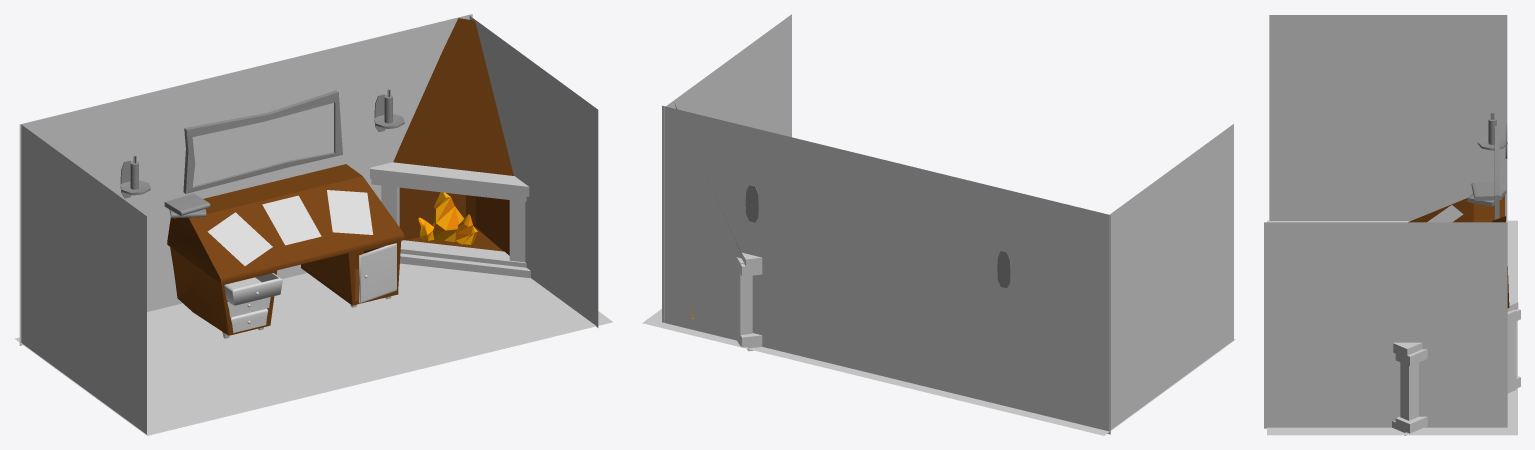
File: prueba_secuencias_v1.FBX
3 views of the same model, side by side, from view 1: azimuth 30°, elevation 25°; view 2: azimuth 150°, elevation 25°; view 3: azimuth 270°, elevation 25° (orthographic). The views are drawn at different scales.
Visible parts, largest first — view 1: Suelos_paredes, mesa_superior, sup_chimenea, Fondo_marco_grande, interior_chimenea, Box054, Puerta_mesa, opcion2_fondo, opcion3_fondo, opcion1_fondo, Box065, Box066 (+6 smaller); view 2: Suelos_paredes, Box050; view 3: Suelos_paredes, mesa_superior, Box063, Box050, Box065, Box054, Box064, opcion1_fondo.
Part boxes in pixels (x1=…): Suelos_paredes: x1=15, y1=14, x2=613, y2=435; mesa_superior: x1=120, y1=90, x2=404, y2=335; sup_chimenea: x1=393, y1=18, x2=513, y2=175; Fondo_marco_grande: x1=192, y1=103, x2=333, y2=186; interior_chimenea: x1=399, y1=187, x2=509, y2=255; Box054: x1=370, y1=162, x2=529, y2=196; Puerta_mesa: x1=359, y1=243, x2=396, y2=303; opcion2_fondo: x1=262, y1=195, x2=321, y2=245; opcion3_fondo: x1=327, y1=190, x2=373, y2=234; opcion1_fondo: x1=207, y1=212, x2=272, y2=265; Box065: x1=400, y1=240, x2=526, y2=267; Box066: x1=400, y1=253, x2=530, y2=278; Suelos_paredes: x1=642, y1=14, x2=1235, y2=435; Box050: x1=736, y1=257, x2=752, y2=346; Suelos_paredes: x1=1264, y1=15, x2=1517, y2=435; mesa_superior: x1=1408, y1=113, x2=1507, y2=222; Box063: x1=1400, y1=362, x2=1418, y2=420; Box050: x1=1507, y1=309, x2=1516, y2=393; Box065: x1=1395, y1=375, x2=1520, y2=433; Box054: x1=1393, y1=298, x2=1518, y2=358; Box064: x1=1395, y1=309, x2=1520, y2=365; opcion1_fondo: x1=1427, y1=205, x2=1463, y2=222.
Bounding box in the file's own units: 409 × 185 × 206.
